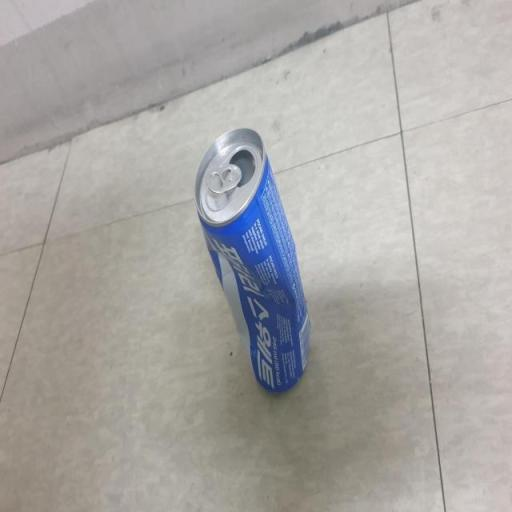metal: (186, 110, 323, 423)
